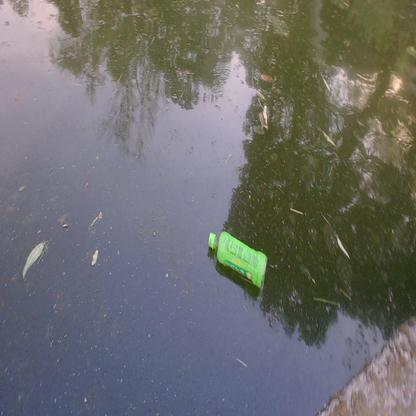plastic bottle: (206, 231, 268, 291)
